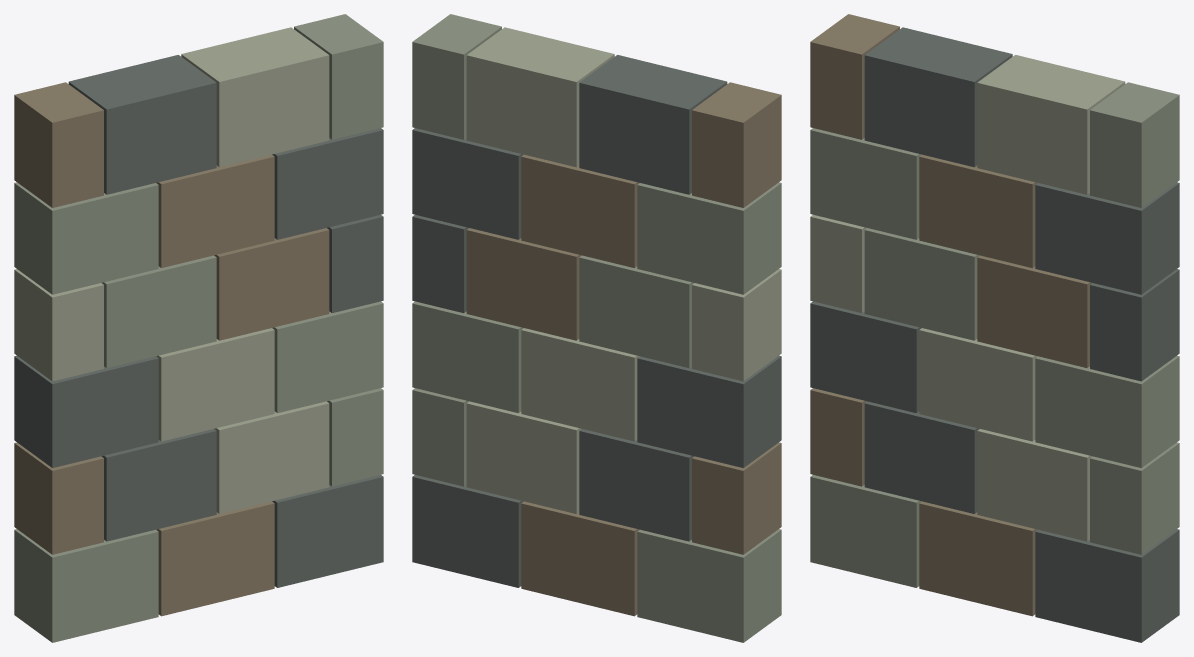
File: TW_RUIN_WALL_SOLID_A_LOD0.glb
The picture shows the model from 3 angles, left to right: view 1: azimuth 30°, elevation 25°; view 2: azimuth 150°, elevation 25°; view 3: azimuth 330°, elevation 25°; orthographic projection.
Parts seen in each view (by area): view 1: TW_RUIN_WALL_SOLID_A; view 2: TW_RUIN_WALL_SOLID_A; view 3: TW_RUIN_WALL_SOLID_A.
Part boxes in pixels (<box>): TW_RUIN_WALL_SOLID_A: <box>14,14,383,642</box>; TW_RUIN_WALL_SOLID_A: <box>412,14,781,642</box>; TW_RUIN_WALL_SOLID_A: <box>810,14,1179,642</box>.
Size of the model in its own units: 2 by 3 by 0.4.
